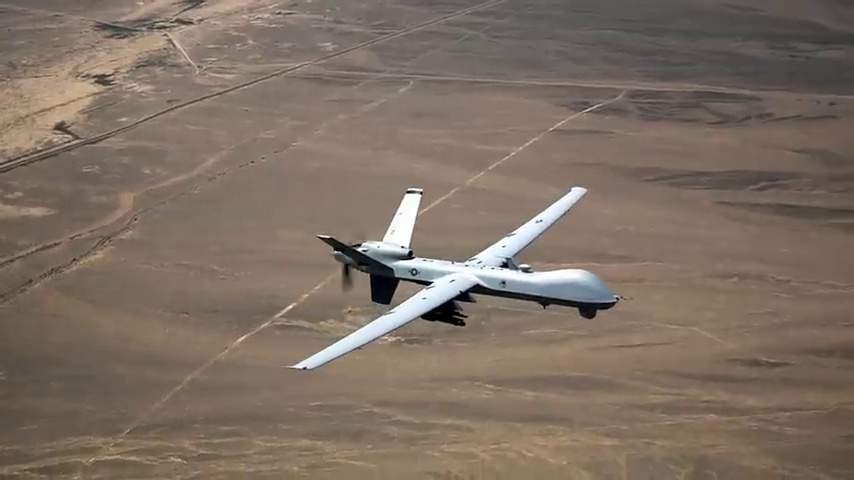military drone: (282, 186, 620, 370)
